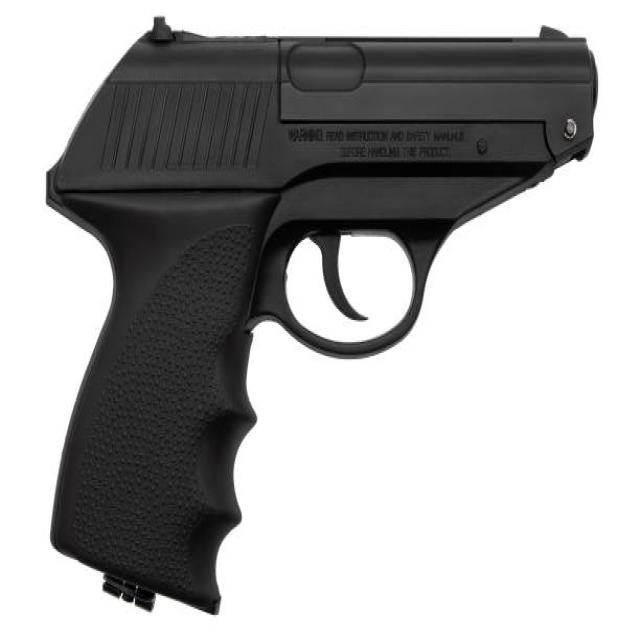pistol: (33, 16, 605, 621)
